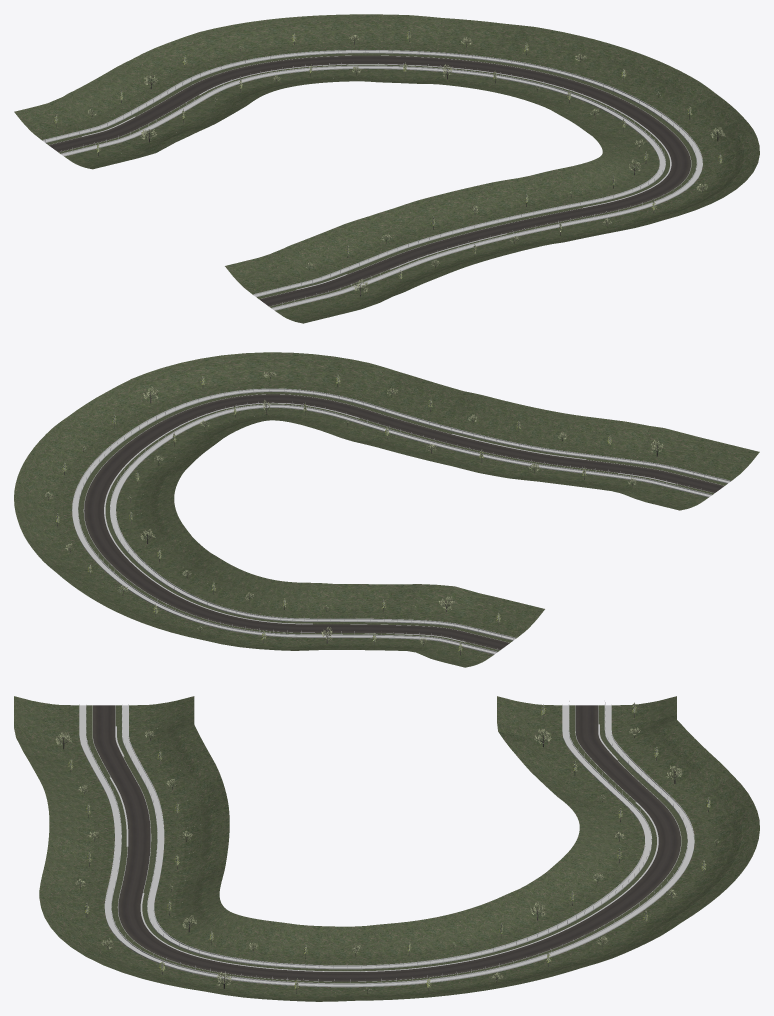
3 views of the same model, one above another, from view 1: azimuth 30°, elevation 25°; view 2: azimuth 150°, elevation 25°; view 3: azimuth 270°, elevation 25° (orthographic). The views are drawn at different scales.
Parts seen in each view (by area): view 1: Grass, Road, Track, Trees, Curbs; view 2: Grass, Road, Track, Trees, Curbs; view 3: Grass, Road, Track, Trees, Curbs.
Part boxes in pixels (x1=…): Grass: x1=14, y1=14, x2=759, y2=323; Road: x1=48, y1=55, x2=691, y2=306; Track: x1=42, y1=49, x2=702, y2=310; Trees: x1=54, y1=29, x2=725, y2=296; Curbs: x1=82, y1=64, x2=671, y2=289; Grass: x1=14, y1=352, x2=759, y2=667; Road: x1=84, y1=394, x2=724, y2=650; Track: x1=72, y1=388, x2=730, y2=654; Trees: x1=43, y1=371, x2=663, y2=655; Curbs: x1=104, y1=403, x2=675, y2=642; Grass: x1=14, y1=696, x2=759, y2=1001; Road: x1=93, y1=705, x2=680, y2=981; Track: x1=79, y1=701, x2=694, y2=987; Trees: x1=55, y1=702, x2=718, y2=993; Curbs: x1=109, y1=724, x2=658, y2=971.
Size of what is drawn, in the model's own units: 56074 by 2332 by 57934.
